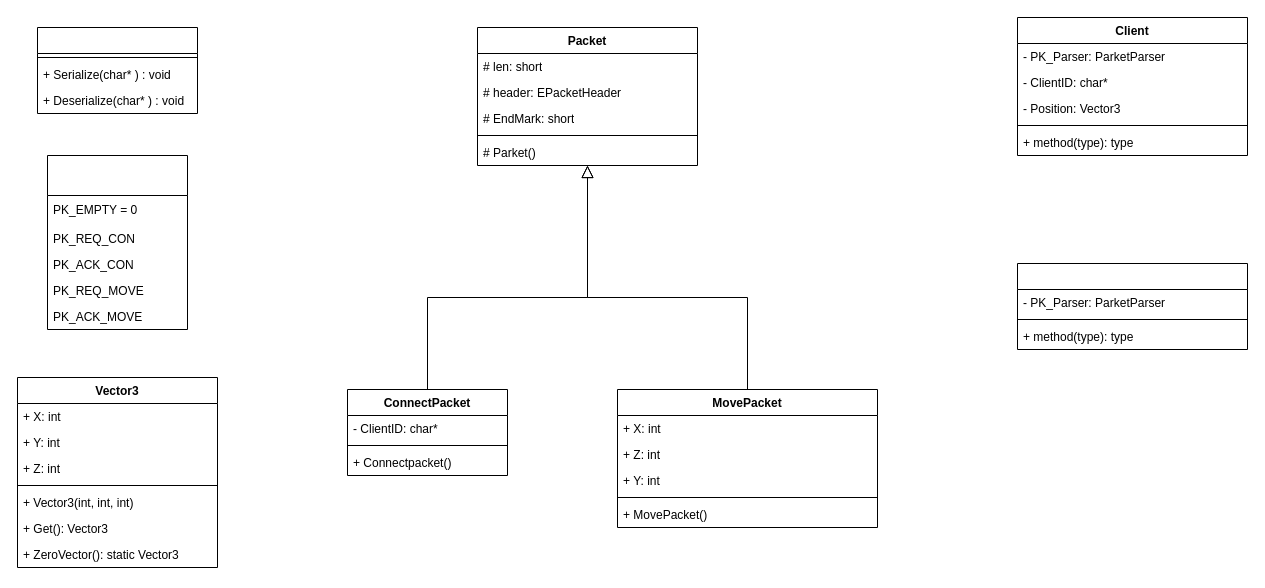
This 1265x588 diagram has some shape labels left out. Here are the shapes that lost their labels. From the top down, the box of each, then its label:
(36, 26, 198, 114): ParketParser
(46, 154, 188, 330): <<enumeration>> EPacketHeder
(1016, 262, 1248, 350): Server
